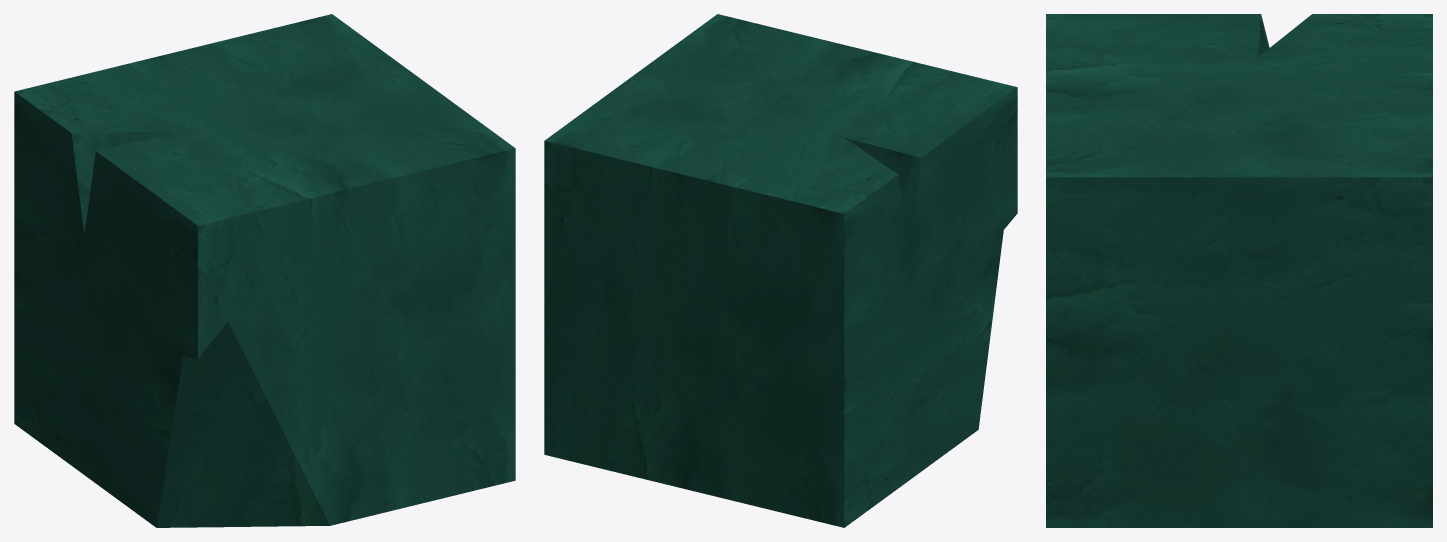
File: block2dp_wtf.obj
The picture shows the model from 3 angles, left to right: view 1: azimuth 30°, elevation 25°; view 2: azimuth 150°, elevation 25°; view 3: azimuth 270°, elevation 25°; orthographic projection. The views are drawn at different scales.
Visible parts, largest first — view 1: group2; view 2: group2; view 3: group2.
Part boxes in pixels (bbox=[...]): group2: bbox=[14, 14, 515, 527]; group2: bbox=[544, 14, 1017, 527]; group2: bbox=[1046, 14, 1432, 527].
Size of the model in its own units: 660 by 660 by 660.
